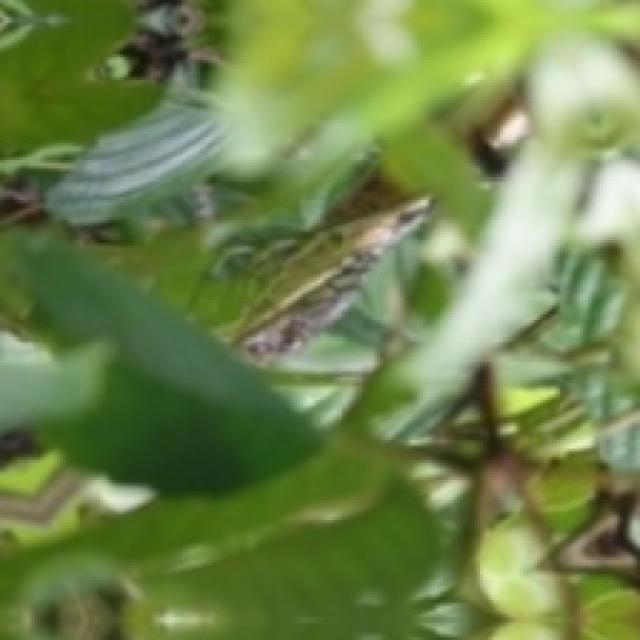king cobra: (223, 197, 429, 357)
